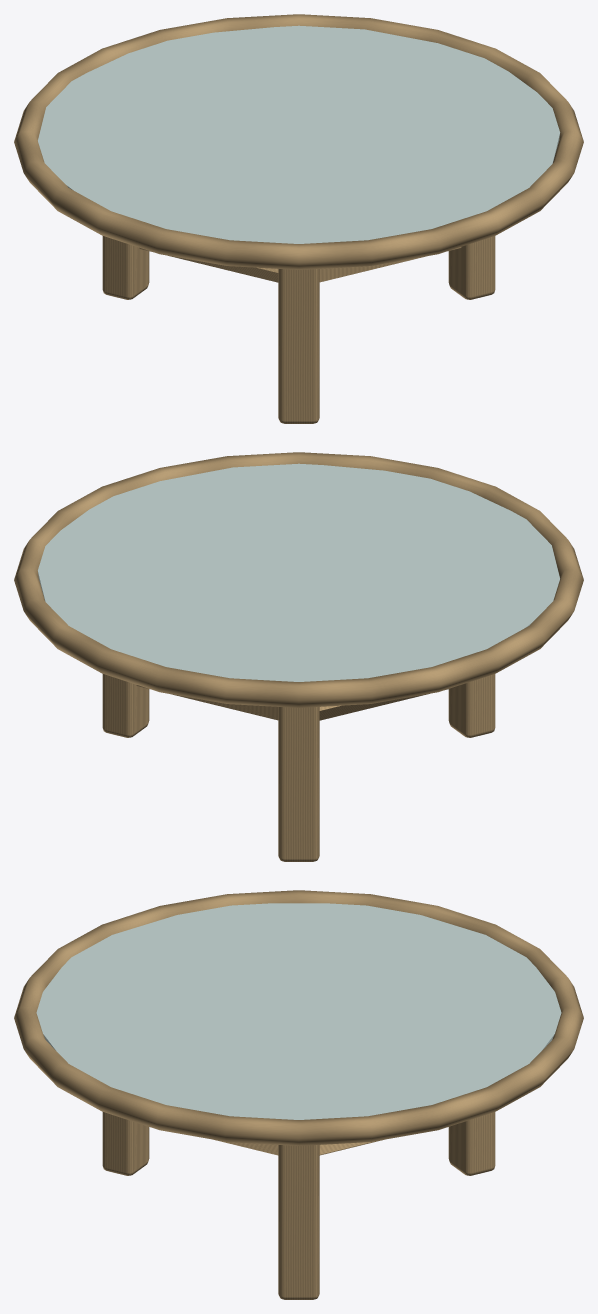
The model's file is stockholm-table-mobile.glb.
3 renders of one model, top to bottom at view 1: azimuth 30°, elevation 25°; view 2: azimuth 150°, elevation 25°; view 3: azimuth 270°, elevation 25°, orthographic.
Parts seen in each view (by area): view 1: STOCKHOLM 2025 Round glass coffee table; view 2: STOCKHOLM 2025 Round glass coffee table; view 3: STOCKHOLM 2025 Round glass coffee table.
Boxes of the visible parts, x1,y1,x2,y2 form: STOCKHOLM 2025 Round glass coffee table: [14, 14, 583, 423]; STOCKHOLM 2025 Round glass coffee table: [14, 452, 583, 861]; STOCKHOLM 2025 Round glass coffee table: [14, 890, 583, 1299].
Size of the model in its own units: 0.97 by 0.38 by 0.97.
Materials: 2 (1 with a texture image).
